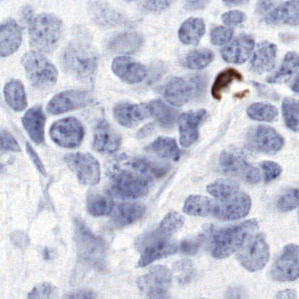Lymphocyte: (212, 69, 233, 95)
